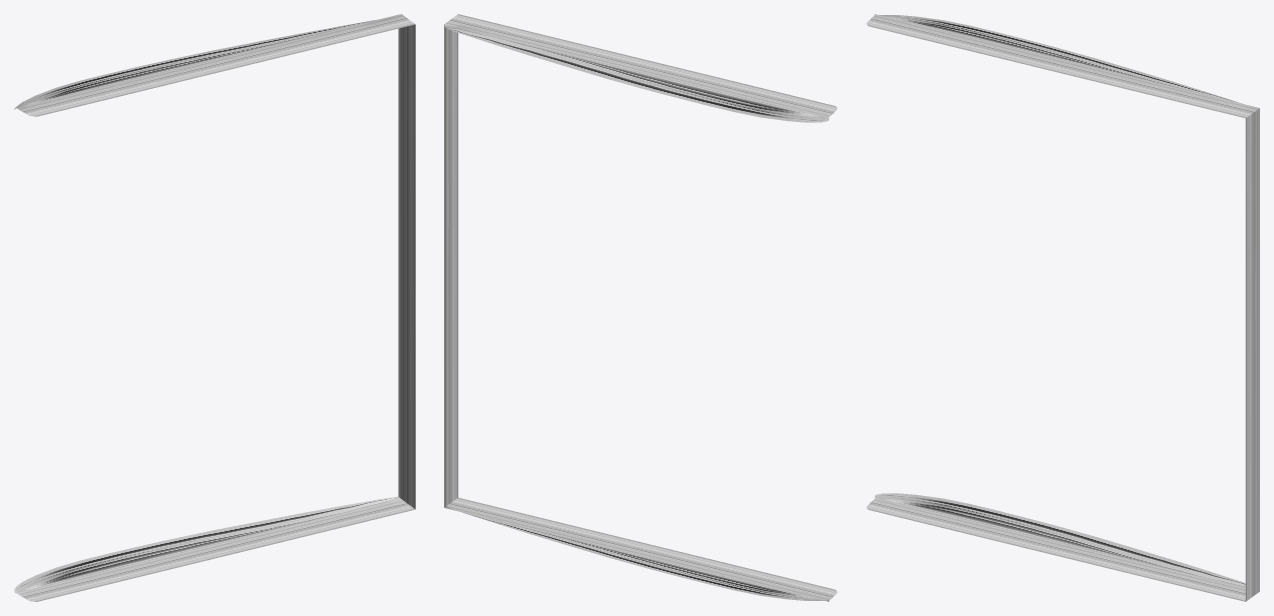
File: MeshBookFront_28_1_GeomSubset_1.obj
3 views of the same model, side by side, from view 1: azimuth 30°, elevation 25°; view 2: azimuth 150°, elevation 25°; view 3: azimuth 330°, elevation 25° (orthographic).
Visible parts, largest first — view 1: MeshBookFront_28_1_GeomSubset_1; view 2: MeshBookFront_28_1_GeomSubset_1; view 3: MeshBookFront_28_1_GeomSubset_1.
Boxes of the visible parts, <box> form: MeshBookFront_28_1_GeomSubset_1: <box>14,14,415,601</box>; MeshBookFront_28_1_GeomSubset_1: <box>444,14,837,601</box>; MeshBookFront_28_1_GeomSubset_1: <box>866,14,1259,601</box>.
Bounding box in the file's own units: 0.2135 × 0.2561 × 0.0278.
1 material, 1 textured.
